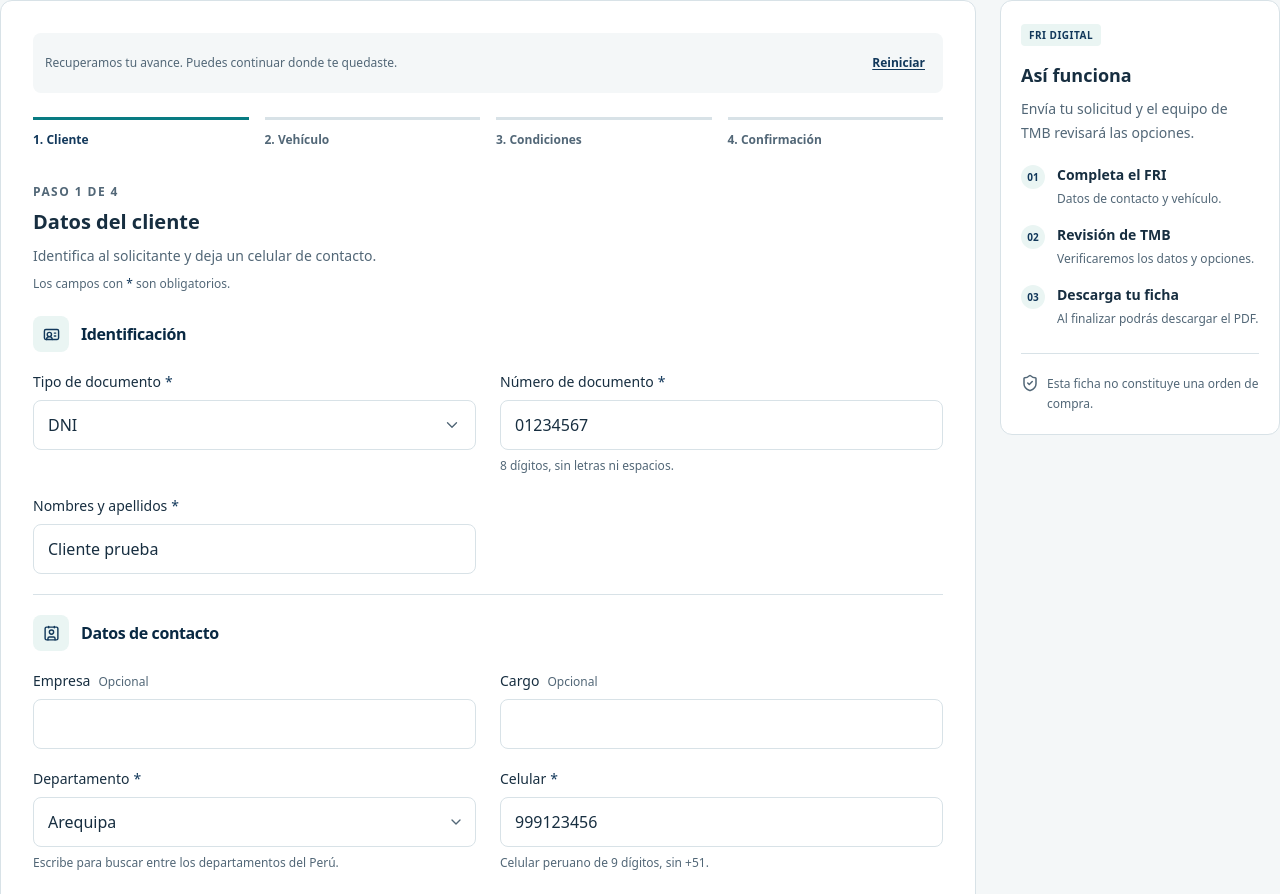
Flujo público FRI › cambia los campos de persona a empresa y limpia el documento al cambiar tipo
The image size is (1280, 894).
Step 1. Select "RUC" in the dropdown labelled "Tipo de documento*" → (254, 425), box [33, 400, 476, 450]
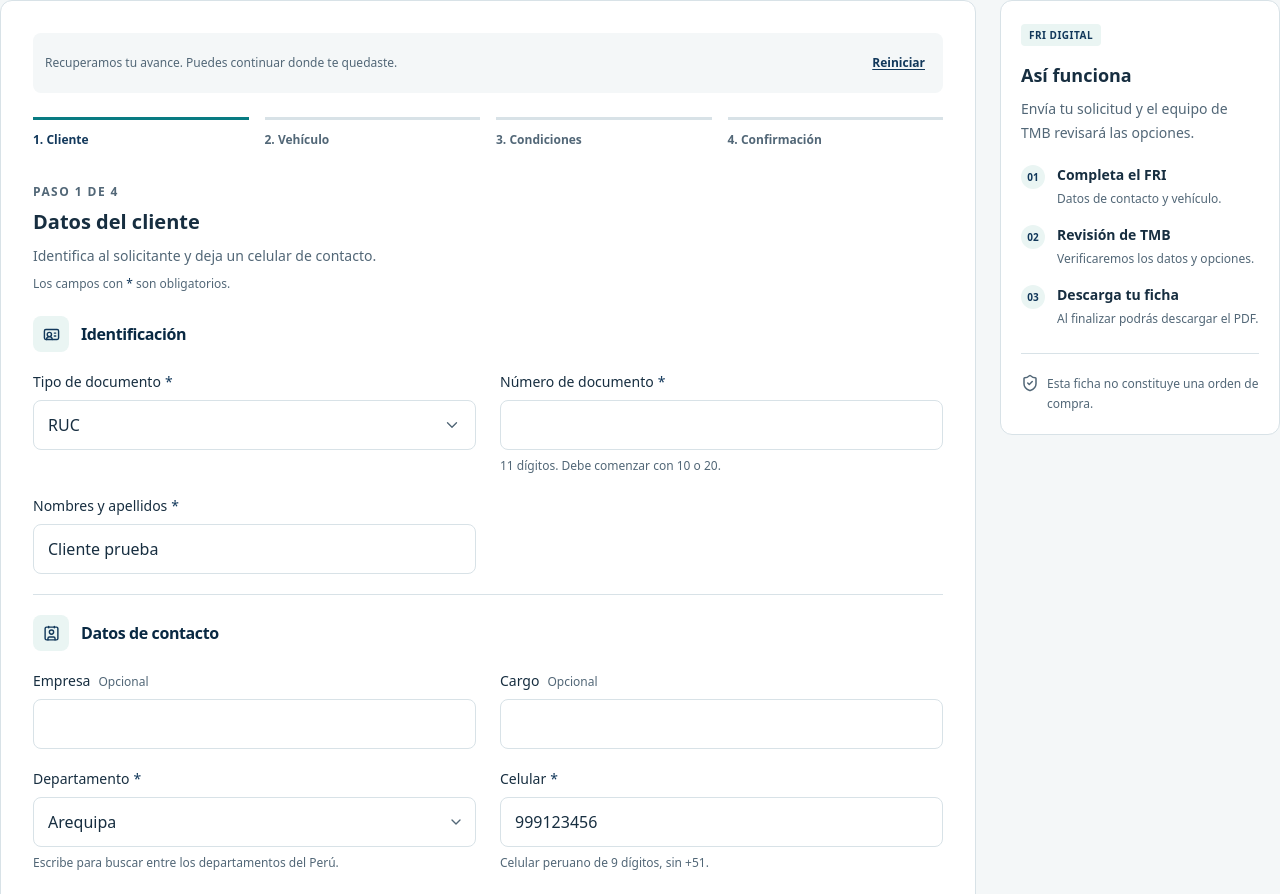
Result: the field labelled "Número de documento*" is empty
Step 2. Type "20123456789" into the field labelled "Número de documento*" → (722, 425), box [500, 400, 943, 450]
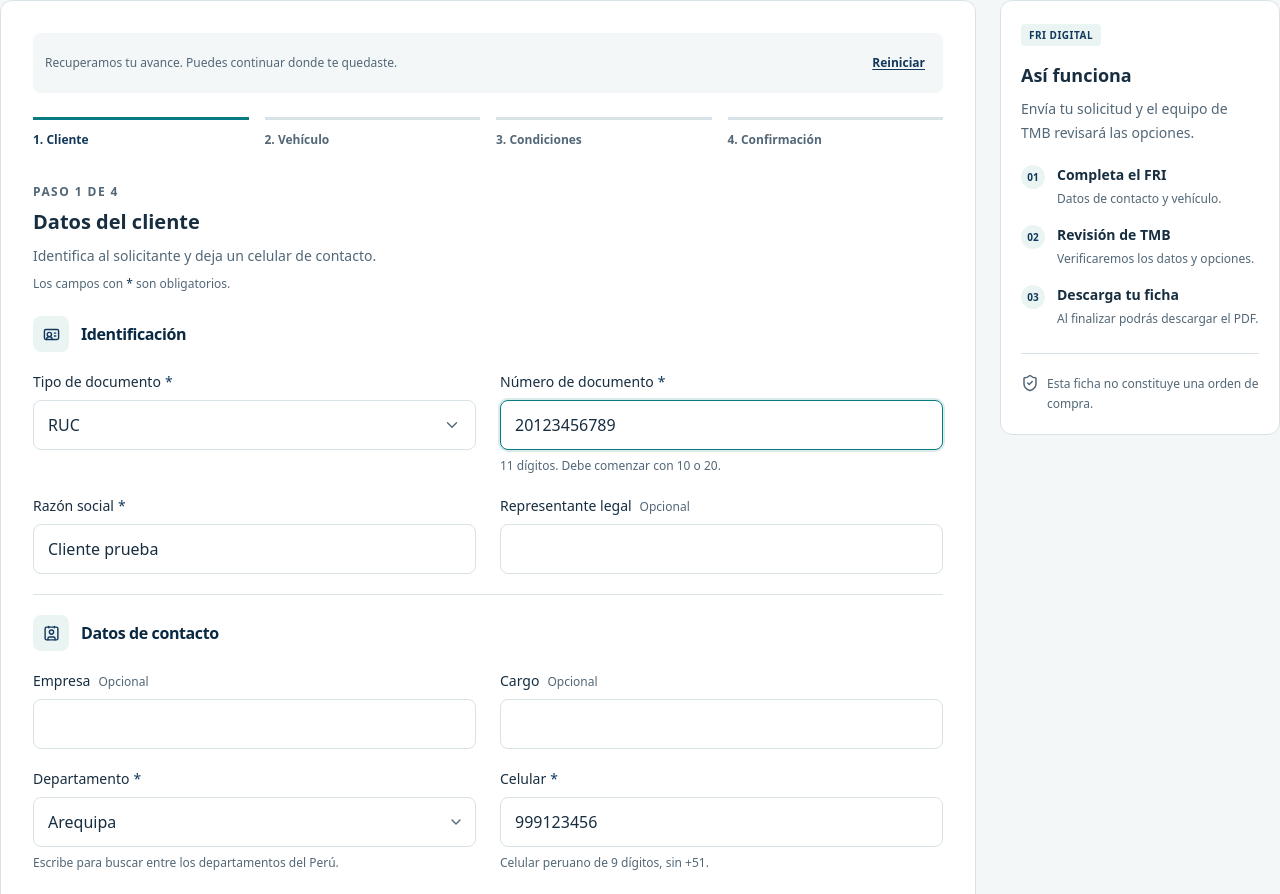
Expected: the field labelled "Razón social*" is shown, [33, 524, 476, 574]
Result: the field labelled "Representante legal" is shown at [500, 524, 943, 574]
Step 3. Select "DNI" in the dropdown labelled "Tipo de documento*" → (254, 425), box [33, 400, 476, 450]
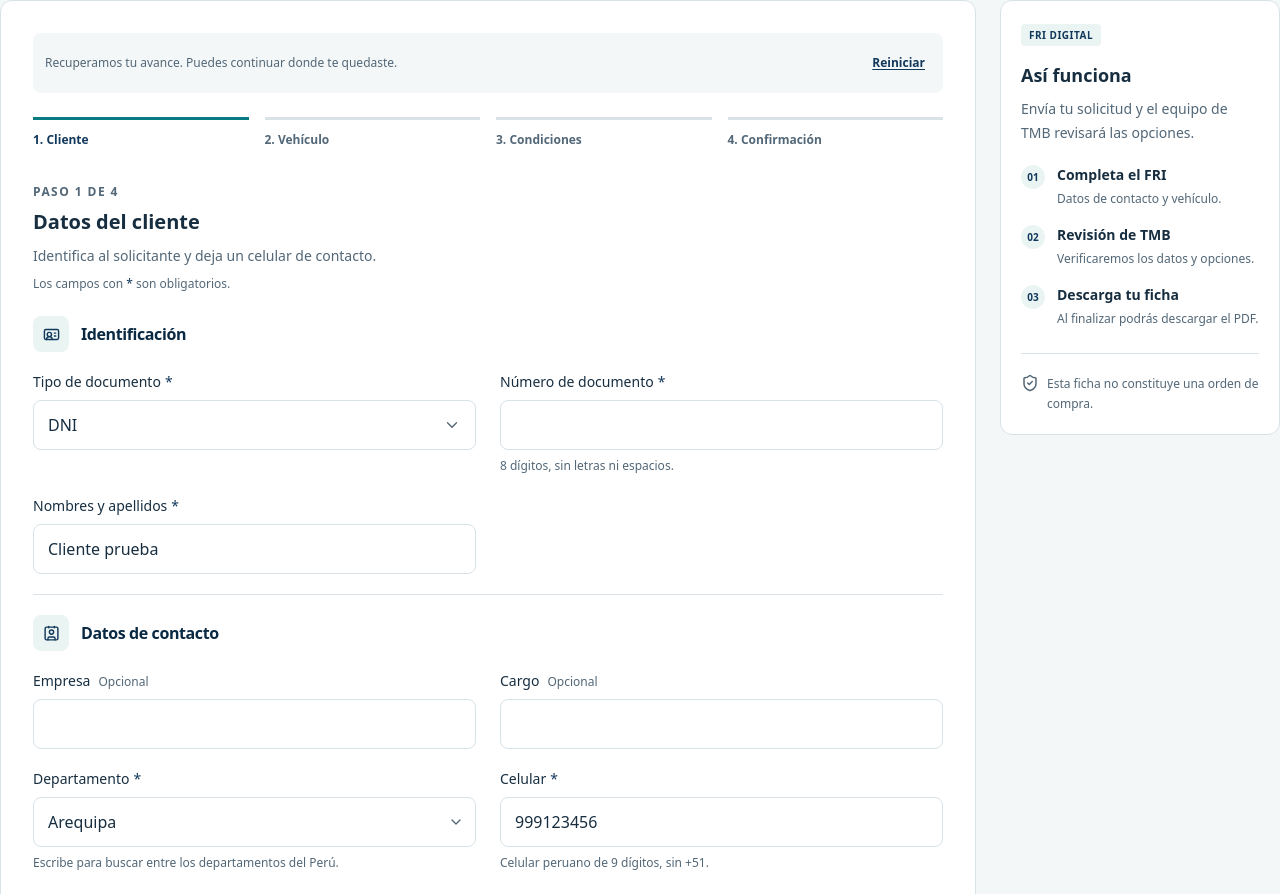
Expected: the field labelled "Nombres y apellidos*" is shown, [33, 524, 476, 574]
Result: the label labelled "Representante legal" is gone
